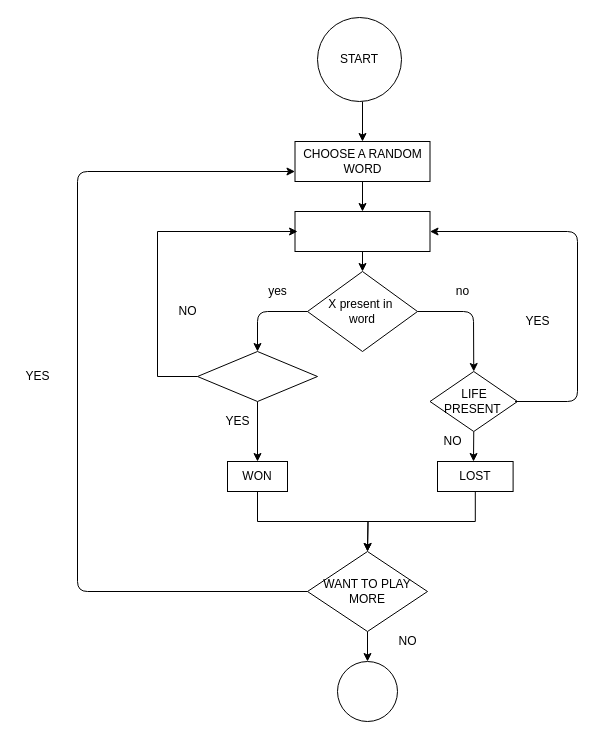
Some shapes in this 603 by 739 pixel diagram are drawn without their labels. The box of each missing label's shape, as (x1, y1, x2, y2) in pixels:
ALL LETTER GUESSED: (196, 350, 318, 402)
END: (336, 660, 398, 722)
INPUT LETTER FROM USER x: (294, 210, 430, 252)
